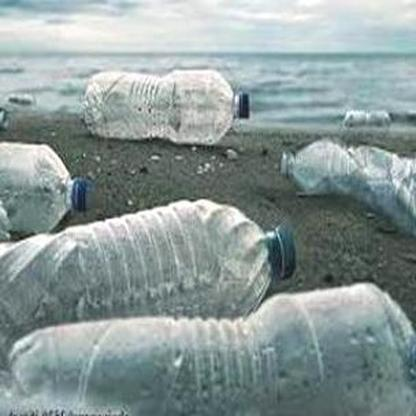plastic bottle: (6, 279, 416, 416), (1, 197, 296, 337), (83, 69, 251, 144), (279, 138, 416, 219), (1, 141, 89, 231)
